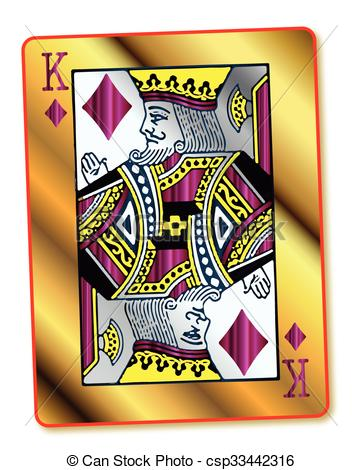king of diamonds: (20, 24, 328, 432)
